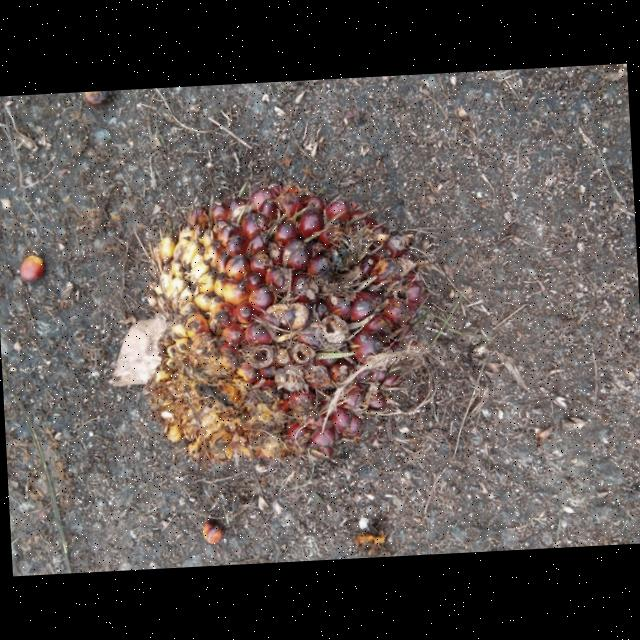Ripe: (150, 186, 418, 463)
